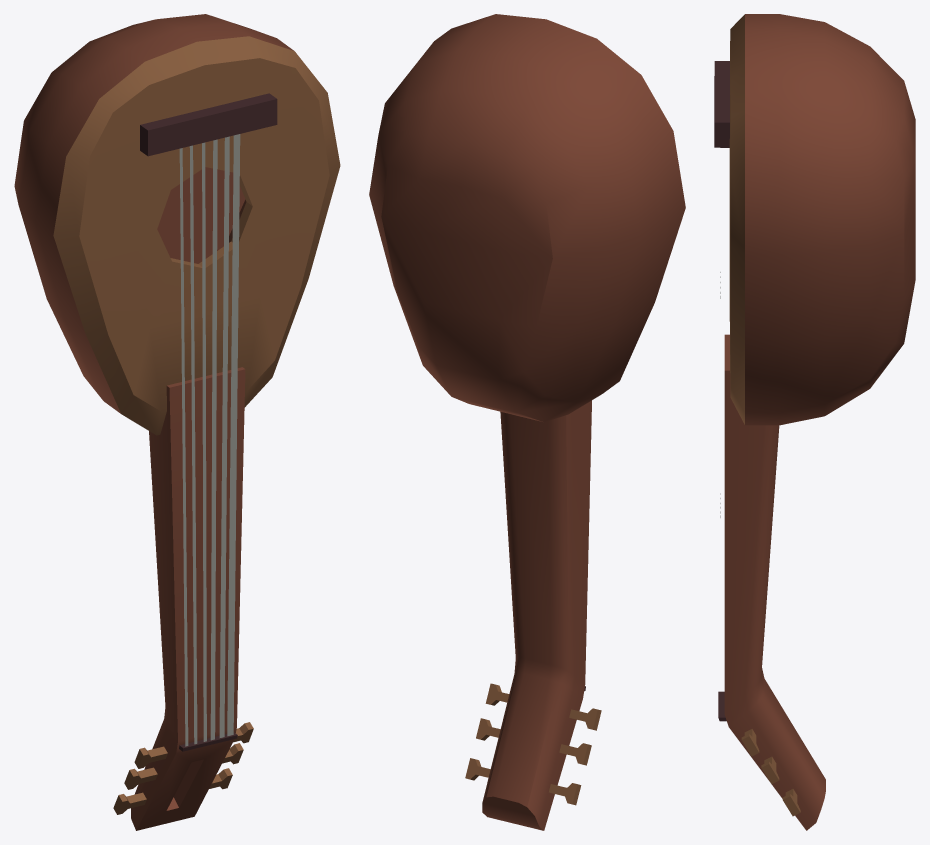
Rendered from quaternius-pirate-weapon-lute.glb.
3 views of the same model, side by side, from view 1: azimuth 30°, elevation 25°; view 2: azimuth 150°, elevation 25°; view 3: azimuth 270°, elevation 25° (orthographic). The views are drawn at different scales.
Visible parts, largest first — view 1: Weapon_Lute; view 2: Weapon_Lute; view 3: Weapon_Lute.
Part boxes in pixels (left/top/right/bottom): Weapon_Lute: left=14, top=14, right=340, bottom=830; Weapon_Lute: left=369, top=14, right=685, bottom=830; Weapon_Lute: left=714, top=14, right=915, bottom=830.
Size of the model in its own units: 0.4987 by 1.33 by 0.3095.
Materials: 1 (1 with a texture image).
